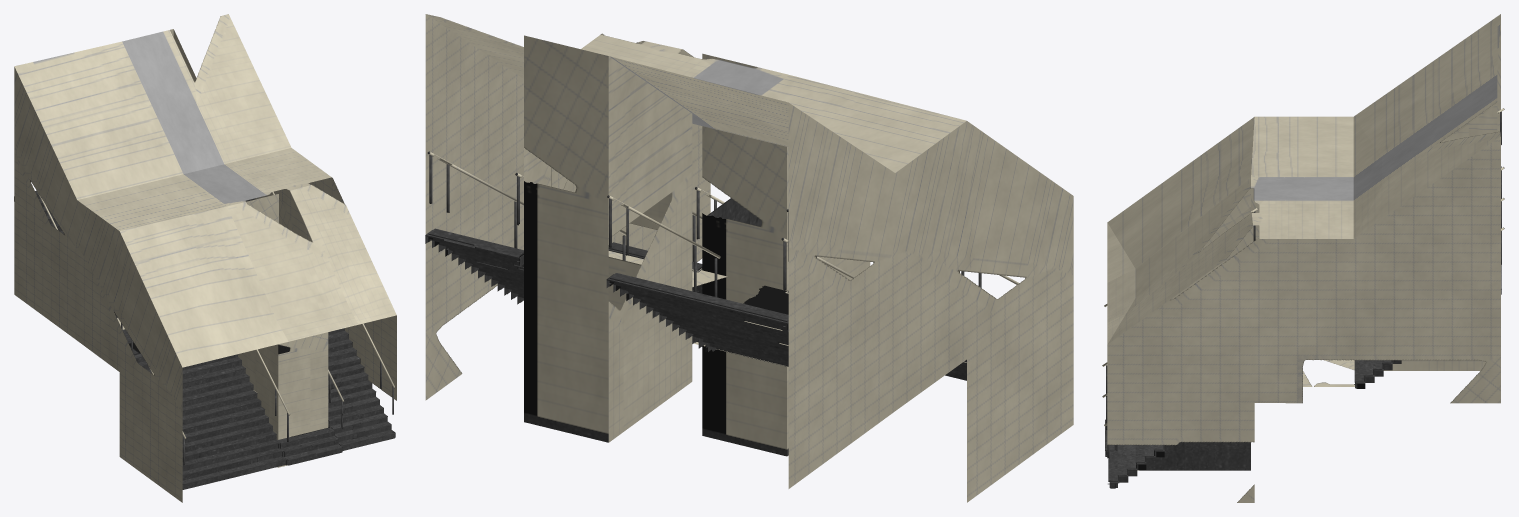
File: stairs .fbx
The picture shows the model from 3 angles, left to right: view 1: azimuth 30°, elevation 25°; view 2: azimuth 150°, elevation 25°; view 3: azimuth 270°, elevation 25°; orthographic projection. The views are drawn at different scales.
Parts seen in each view (by area): view 1: stairs; view 2: stairs; view 3: stairs.
Part boxes in pixels (box(x1,y1,x2,y2)): stairs: box(14, 14, 396, 502); stairs: box(425, 14, 1073, 502); stairs: box(1102, 14, 1504, 502).
Size of the model in its own units: 957 by 1337 by 1330.
